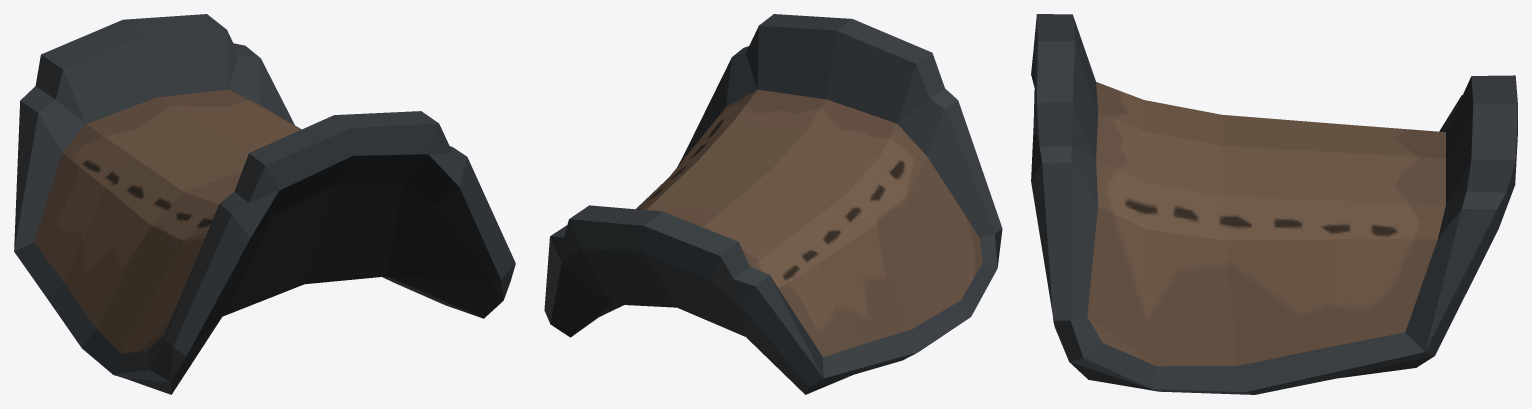
File: SM_Chr_Attach_Saddle_Seat_02.fbx
The picture shows the model from 3 angles, left to right: view 1: azimuth 30°, elevation 25°; view 2: azimuth 150°, elevation 25°; view 3: azimuth 270°, elevation 25°; orthographic projection. The views are drawn at different scales.
Visible parts, largest first — view 1: SM_Chr_Attach_Saddle_Seat_02; view 2: SM_Chr_Attach_Saddle_Seat_02; view 3: SM_Chr_Attach_Saddle_Seat_02.
Part boxes in pixels (box(x1,y1,x2,y2)): SM_Chr_Attach_Saddle_Seat_02: box(14, 14, 515, 394); SM_Chr_Attach_Saddle_Seat_02: box(544, 14, 1002, 394); SM_Chr_Attach_Saddle_Seat_02: box(1031, 14, 1517, 394).
Bounding box in the file's own units: 32.72 × 22.34 × 35.73.
